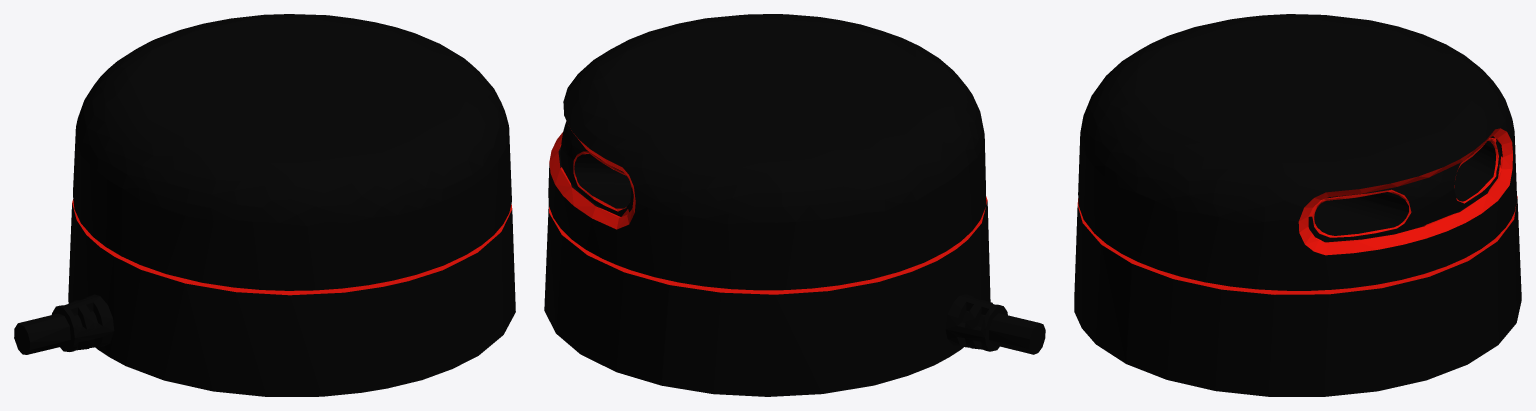
Rendered from rplidar_a2.dae.
3 views of the same model, side by side, from view 1: azimuth 30°, elevation 25°; view 2: azimuth 150°, elevation 25°; view 3: azimuth 270°, elevation 25° (orthographic).
Visible parts, largest first — view 1: RPLIDAR_v4; view 2: RPLIDAR_v4; view 3: RPLIDAR_v4.
Part boxes in pixels (<box>): RPLIDAR_v4: <box>14,14,515,396</box>; RPLIDAR_v4: <box>544,14,1045,396</box>; RPLIDAR_v4: <box>1074,14,1521,396</box>.
Size of the model in its own units: 0.0908 by 0.076 by 0.0405.
